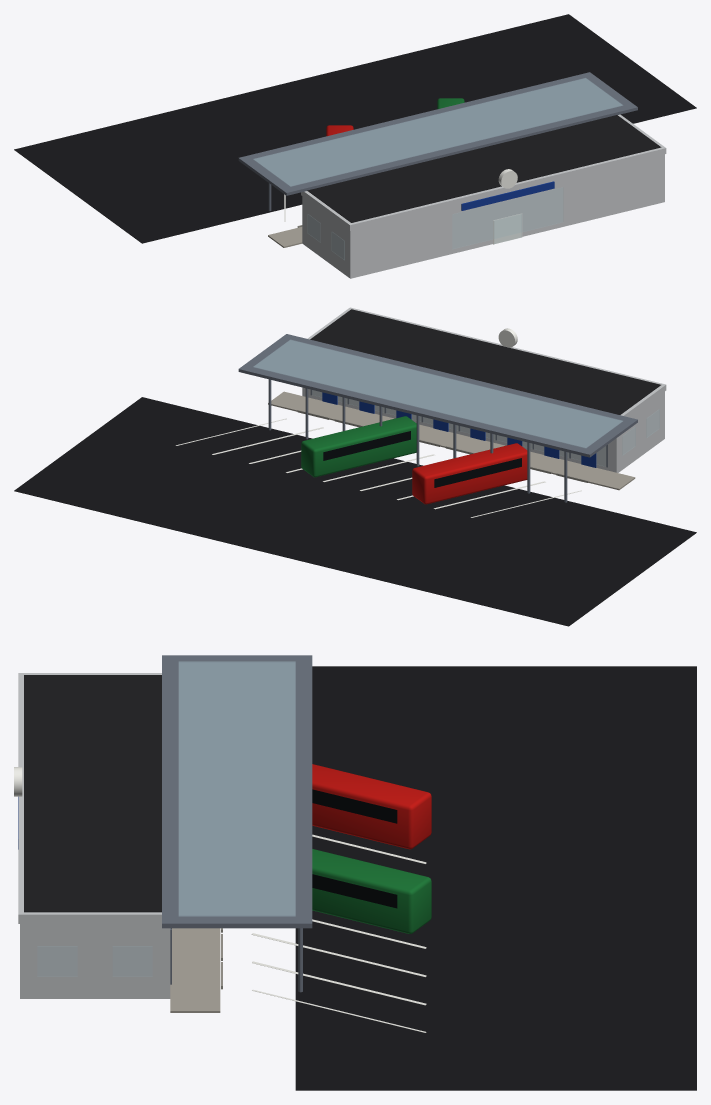
The model's file is context.type.bus_station.glb.
The picture shows the model from 3 angles, top to bottom: view 1: azimuth 30°, elevation 25°; view 2: azimuth 150°, elevation 25°; view 3: azimuth 270°, elevation 25°; orthographic projection. The views are drawn at different scales.
Parts seen in each view (by area): view 1: ground__asphalt, roof__steel_painted, walls__aluminium, roof__roof_felt, roof__glass, openings__glass, roof__aluminium, openings__plastic_blue, openings__paint_white, ground__paving; view 2: ground__asphalt, roof__steel_painted, roof__roof_felt, roof__glass, ground__paving, walls__aluminium, ground__plastic_green, ground__plastic_red, ground__glass_dark, walls__steel_painted, openings__glass, ground__paint_white (+3 smaller); view 3: ground__asphalt, roof__steel_painted, roof__roof_felt, roof__glass, walls__aluminium, ground__plastic_red, ground__plastic_green, ground__paving, roof__aluminium, openings__glass, ground__glass_dark, ground__paint_white.
Part boxes in pixels (box(x1,y1,x2,y2)): ground__asphalt: box(14, 14, 696, 243); roof__steel_painted: box(238, 72, 637, 195); walls__aluminium: box(302, 154, 664, 278); roof__roof_felt: box(307, 115, 661, 222); roof__glass: box(253, 78, 622, 186); openings__glass: box(308, 188, 562, 259); roof__aluminium: box(301, 114, 666, 230); openings__plastic_blue: box(461, 181, 554, 210); openings__paint_white: box(493, 213, 522, 244); ground__paving: box(268, 227, 302, 247); ground__asphalt: box(14, 397, 696, 626); roof__steel_painted: box(238, 334, 637, 457); roof__roof_felt: box(310, 309, 660, 414); roof__glass: box(253, 339, 622, 448); ground__paving: box(268, 391, 635, 490); walls__aluminium: box(302, 387, 664, 472); ground__plastic_green: box(301, 416, 416, 477); ground__plastic_red: box(412, 443, 527, 504); ground__glass_dark: box(323, 431, 521, 487); walls__steel_painted: box(268, 379, 567, 502); openings__glass: box(312, 390, 659, 466); ground__paint_white: box(175, 418, 581, 517); ground__asphalt: box(295, 666, 696, 1090); roof__steel_painted: box(162, 655, 312, 928); roof__roof_felt: box(24, 675, 161, 912); roof__glass: box(179, 661, 295, 916); walls__aluminium: box(20, 924, 170, 998); ground__plastic_red: box(312, 764, 431, 849); ground__plastic_green: box(312, 849, 431, 933); ground__paving: box(170, 928, 220, 1012); roof__aluminium: box(18, 673, 161, 923); openings__glass: box(37, 946, 152, 976); ground__glass_dark: box(312, 789, 397, 908); ground__paint_white: box(251, 834, 426, 1032).
Bounding box in the file's own units: 60 × 7.34 × 40.85.
